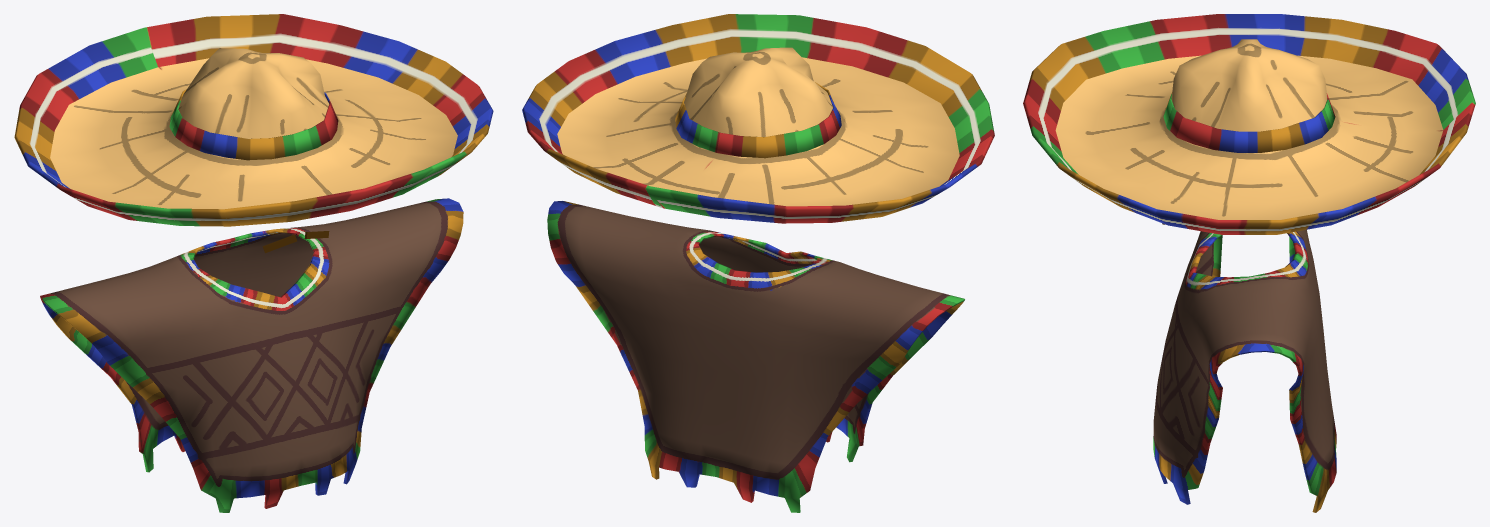
File: CU_TBFit.fbx
The picture shows the model from 3 angles, left to right: view 1: azimuth 30°, elevation 25°; view 2: azimuth 150°, elevation 25°; view 3: azimuth 270°, elevation 25°; orthographic projection. The views are drawn at different scales.
Visible parts, largest first — view 1: TSombrero, TPoncho, SombreroStrap; view 2: TSombrero, TPoncho, SombreroStrap; view 3: TSombrero, TPoncho, SombreroStrap.
Boxes of the visible parts, x1,y1,x2,y2 form: TSombrero: (14, 14, 493, 226); TPoncho: (40, 198, 463, 512); SombreroStrap: (169, 89, 338, 160); TSombrero: (522, 14, 994, 223); TPoncho: (547, 201, 964, 512); SombreroStrap: (675, 82, 841, 158); TSombrero: (1023, 14, 1475, 234); TPoncho: (1153, 229, 1336, 512); SombreroStrap: (1163, 92, 1335, 152).
Bounding box in the file's own units: 353 × 339 × 324.
